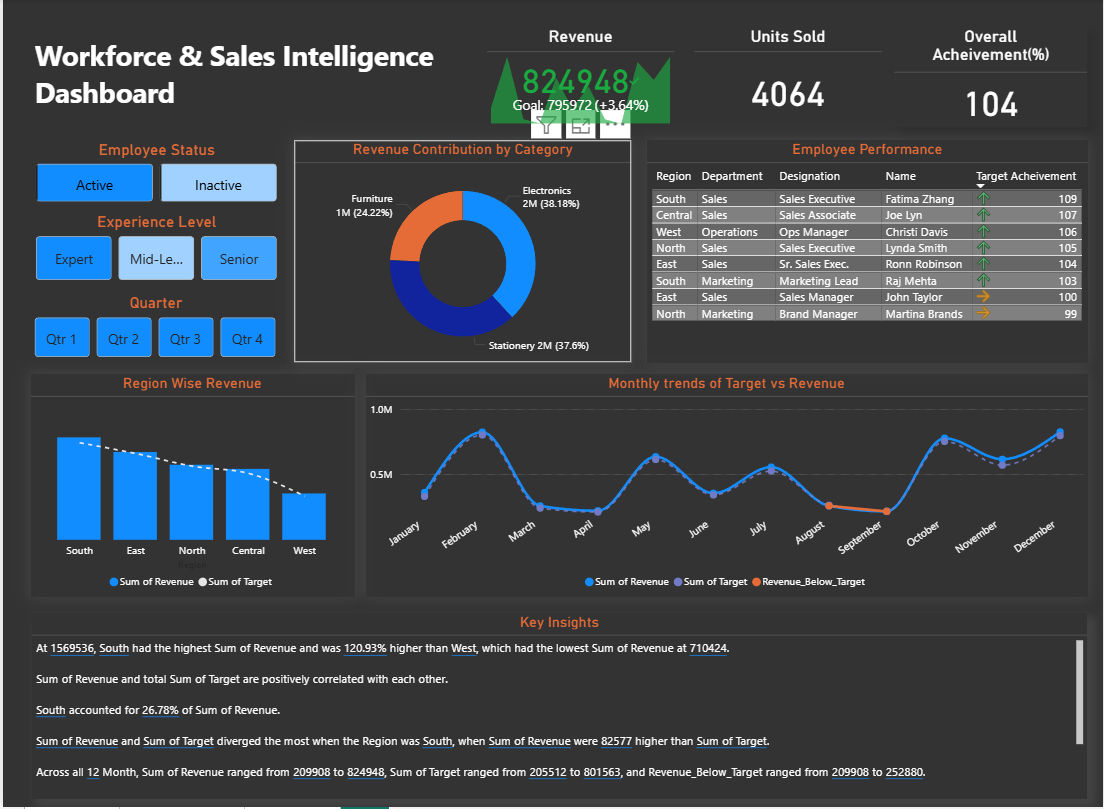

This screenshot's page, from the dashboard's own definition file:
{"tool":"powerbi","page":{"name":"Dashboard","canvas":[1280,940],"ordinal":1},"visuals":[{"type":"donutChart","title":"Revenue Contribution by Category","fields":{"Category":["MonthlySalesData.Product Category"],"Y":["MonthlySalesData.Revenue"]},"box":[338.1,164.2,392.3,258.8],"z":0},{"type":"lineChart","title":"Monthly trends of Target vs Revenue","fields":{"Category":["MonthlySalesData.Sale Date.Variation.Date Hierarchy.Month"],"Y":["MonthlySalesData.Revenue","MonthlySalesData.Target","MonthlySalesData.Revenue_Below_Target"]},"box":[421,435.5,839.7,259.4],"z":1000},{"type":"kpi","title":"Revenue","fields":{"Indicator":["MonthlySalesData.Revenue"],"Goal":["MonthlySalesData.Target"],"TrendLine":["MonthlySalesData.Sale Date.Variation.Date Hierarchy.Month"]},"box":[562.2,32.6,218.4,117],"z":2000},{"type":"card","title":"Units Sold","fields":{"Values":["MonthlySalesData.Units Sold"]},"box":[803.5,32.6,218.4,117],"z":3000},{"type":"card","title":"Overall Acheivement(%)","fields":{"Values":["EmployeeMaster.Target Acheivement"]},"box":[1036.3,32.6,224.4,117],"z":4000},{"type":"advancedSlicerVisual","fields":{"Values":["MonthlySalesData.Sale Date.Variation.Date Hierarchy.Quarter"]},"box":[32,342.3,292.2,79.3],"z":5000},{"type":"lineClusteredColumnComboChart","title":"Region Wise Revenue","fields":{"Category":["MonthlySalesData.Region"],"Y":["MonthlySalesData.Revenue"],"Y2":["MonthlySalesData.Target"]},"box":[32.6,435.5,376.4,259.4],"z":6000},{"type":"advancedSlicerVisual","title":"Employee Status","fields":{"Values":["EmployeeMaster.Status"]},"box":[33.4,164.2,290.8,76.5],"z":7000},{"type":"tableEx","title":"Employee Performance","fields":{"Values":["EmployeeMaster.Region","EmployeeMaster.Department","EmployeeMaster.Designation","EmployeeMaster.Name","EmployeeMaster.Target Acheivement"]},"box":[748,164.1,512.7,258.2],"z":8000},{"type":"advancedSlicerVisual","fields":{"Values":["EmployeeMaster.Experience Level"]},"box":[33.4,249,290.8,83.5],"z":9000},{"type":"textbox","box":[32.6,38.6,503.1,106.2],"z":10000},{"type":"textbox","title":"Key Insights","box":[33.6,713.6,1227.2,216],"z":11000}]}

Visuals, with their boxes in screenshot pixels (x1, y1, x2, y2), scaled from the page's 1280x940 canvas onto the 1104x809 screenshot:
"Revenue Contribution by Category" donutChart: (x1=292, y1=141, x2=630, y2=364)
"Monthly trends of Target vs Revenue" lineChart: (x1=363, y1=375, x2=1087, y2=598)
"Revenue" kpi: (x1=485, y1=28, x2=673, y2=129)
"Units Sold" card: (x1=693, y1=28, x2=881, y2=129)
"Overall Acheivement(%)" card: (x1=894, y1=28, x2=1087, y2=129)
advancedSlicerVisual - MonthlySalesData.Sale Date.Variation.Date Hierarchy.Quarter: (x1=28, y1=295, x2=280, y2=363)
"Region Wise Revenue" lineClusteredColumnComboChart: (x1=28, y1=375, x2=353, y2=598)
"Employee Status" advancedSlicerVisual: (x1=29, y1=141, x2=280, y2=207)
"Employee Performance" tableEx: (x1=645, y1=141, x2=1087, y2=363)
advancedSlicerVisual - EmployeeMaster.Experience Level: (x1=29, y1=214, x2=280, y2=286)
textbox: (x1=28, y1=33, x2=462, y2=125)
"Key Insights" textbox: (x1=29, y1=614, x2=1087, y2=800)
